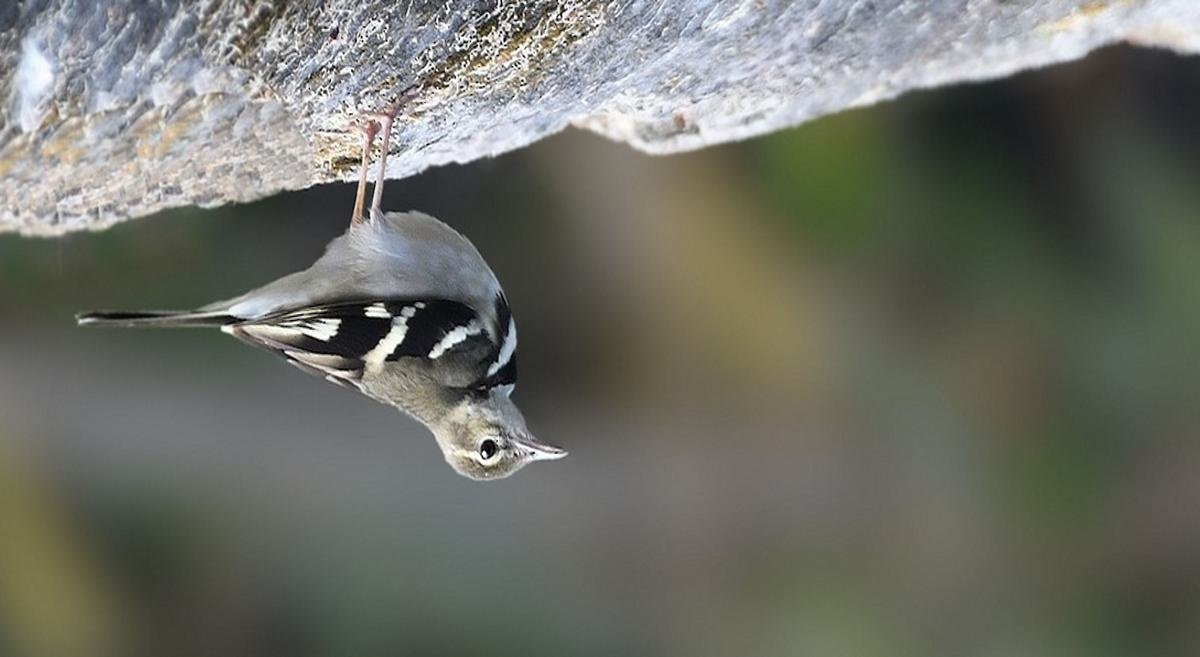wagtail: (175, 104, 561, 486)
